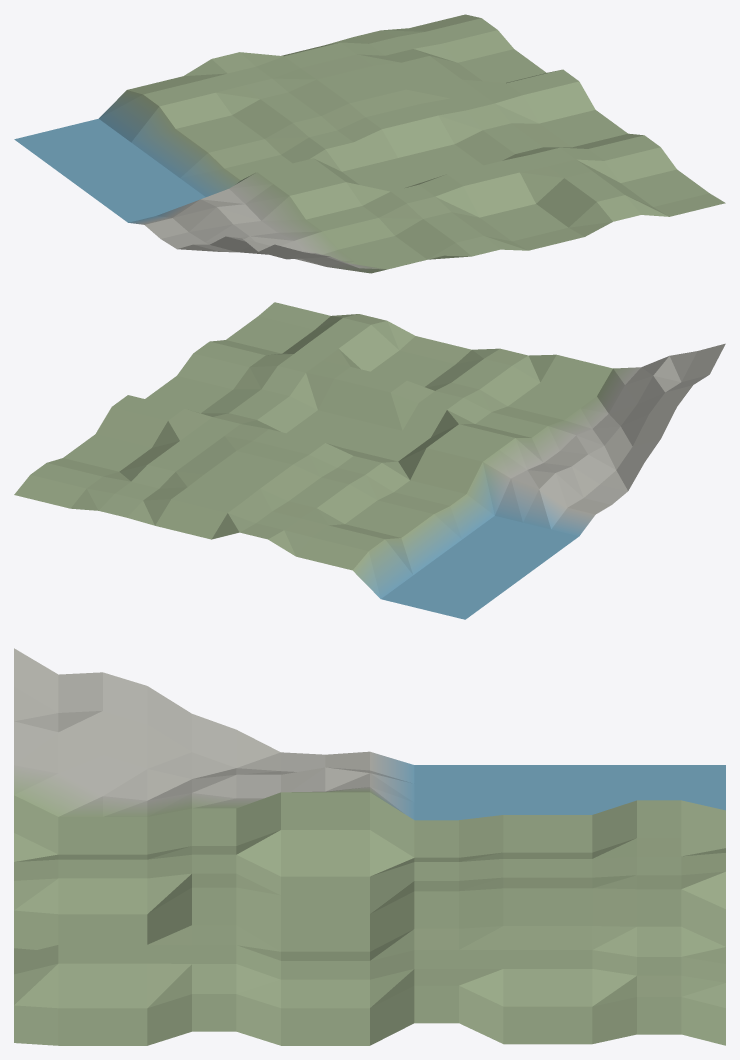
3 views of the same model, one above another, from view 1: azimuth 30°, elevation 25°; view 2: azimuth 150°, elevation 25°; view 3: azimuth 270°, elevation 25° (orthographic). The views are drawn at different scales.
Bounding box in the file's own units: 32 × 5.8 × 32.
